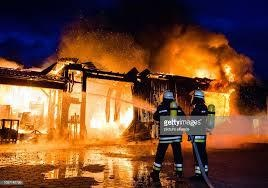fire: (1, 59, 137, 137)
